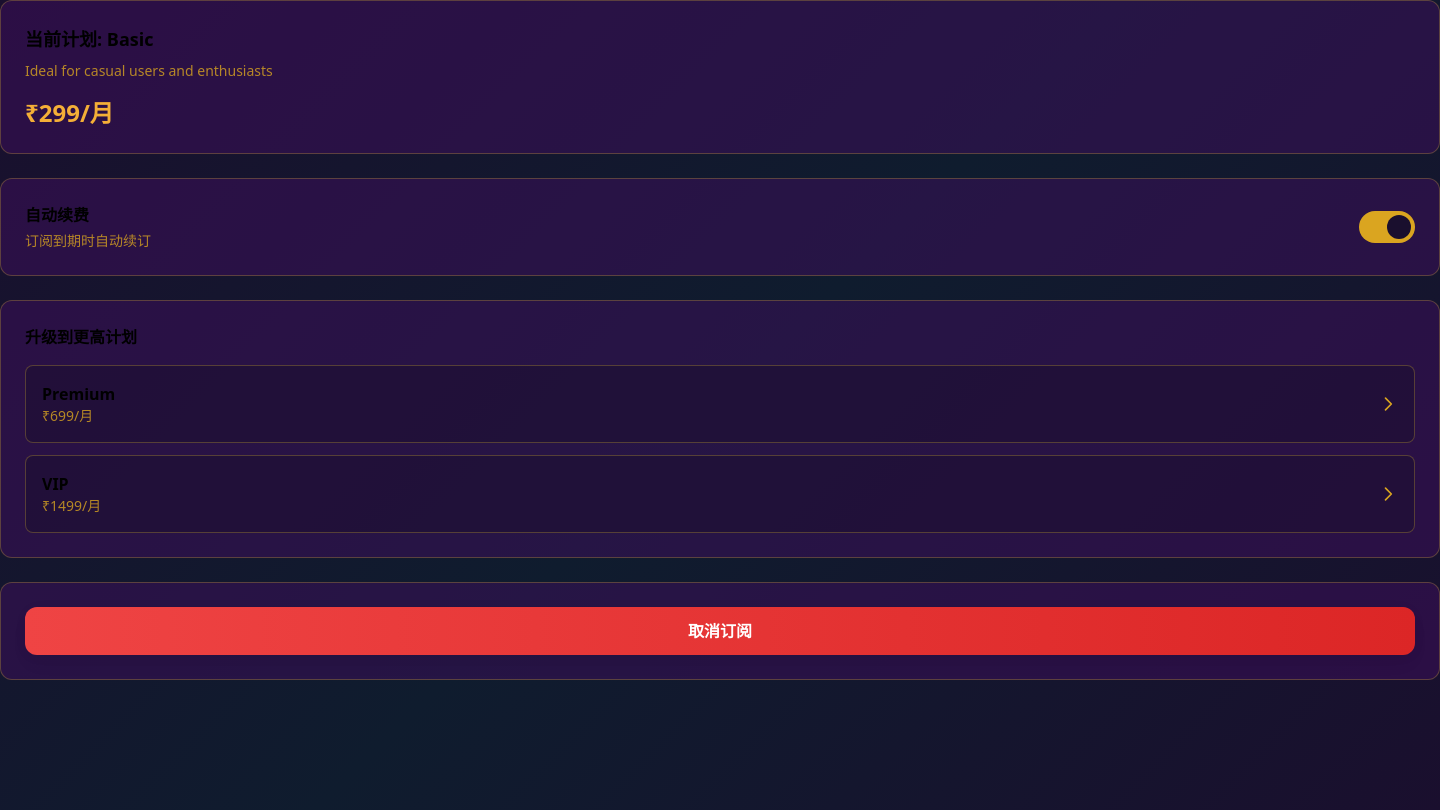
Test case: SubscriptionActions › opens cancel modal when clicking cancel button
Click the button "取消订阅".
click(720, 631)  # box [25,607,1415,655]
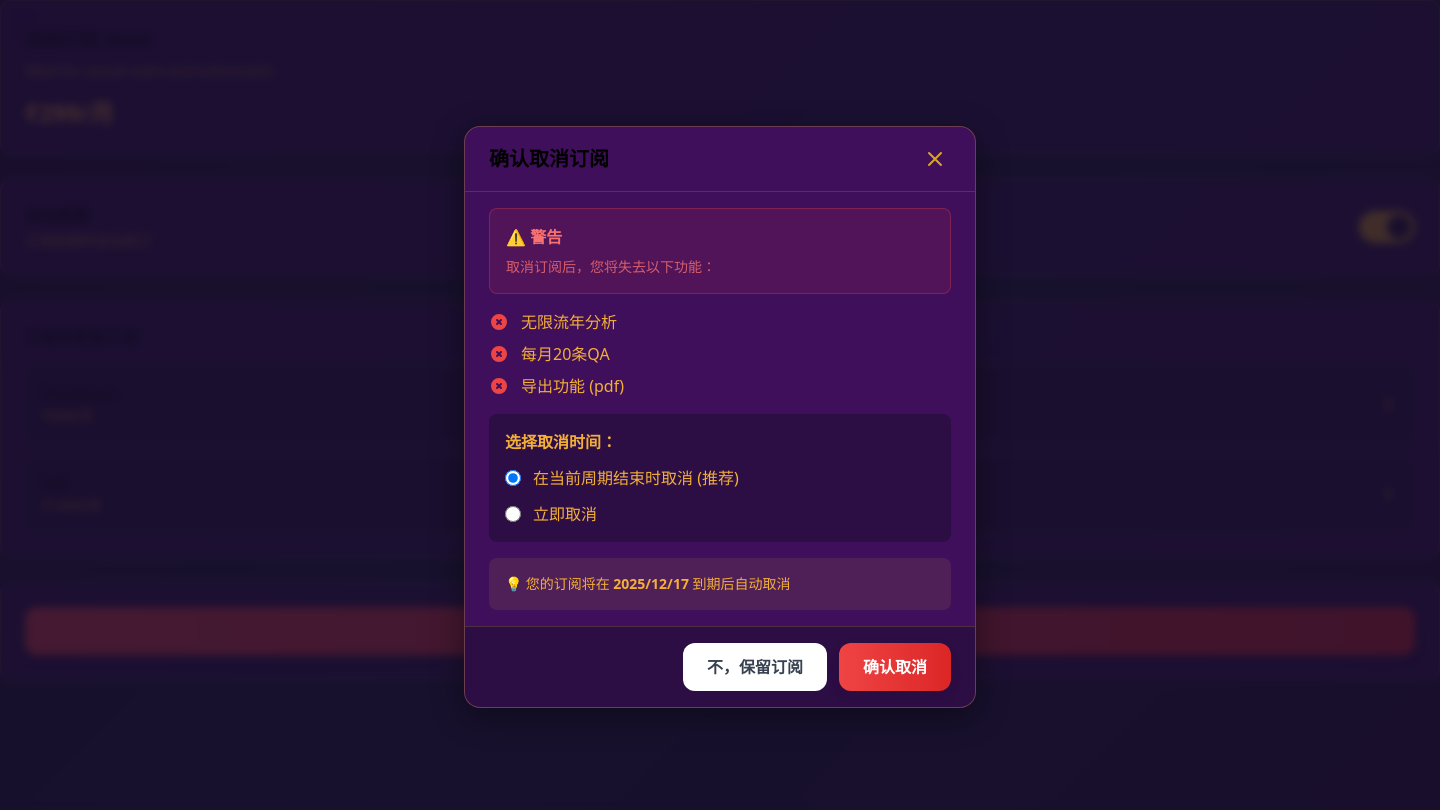
Now the heading "确认取消订阅" is shown, box [489,145,609,173]
Now the text "⚠️ 警告" is shown, box [506,226,562,248]
Now the text "取消订阅后，您将失去以下功能：" is shown, box [506,257,716,276]
